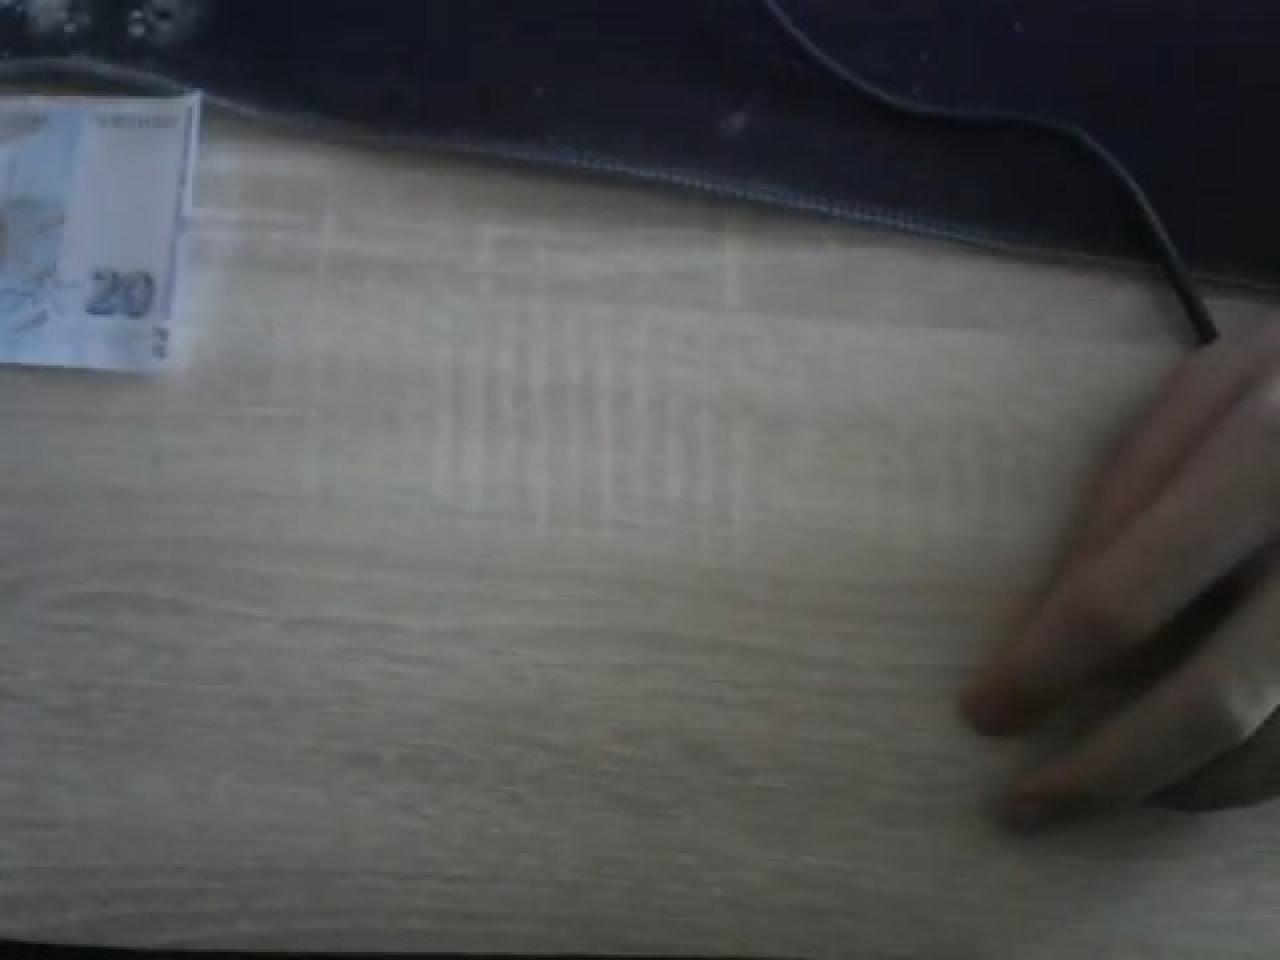20leva: (0, 83, 203, 381)
